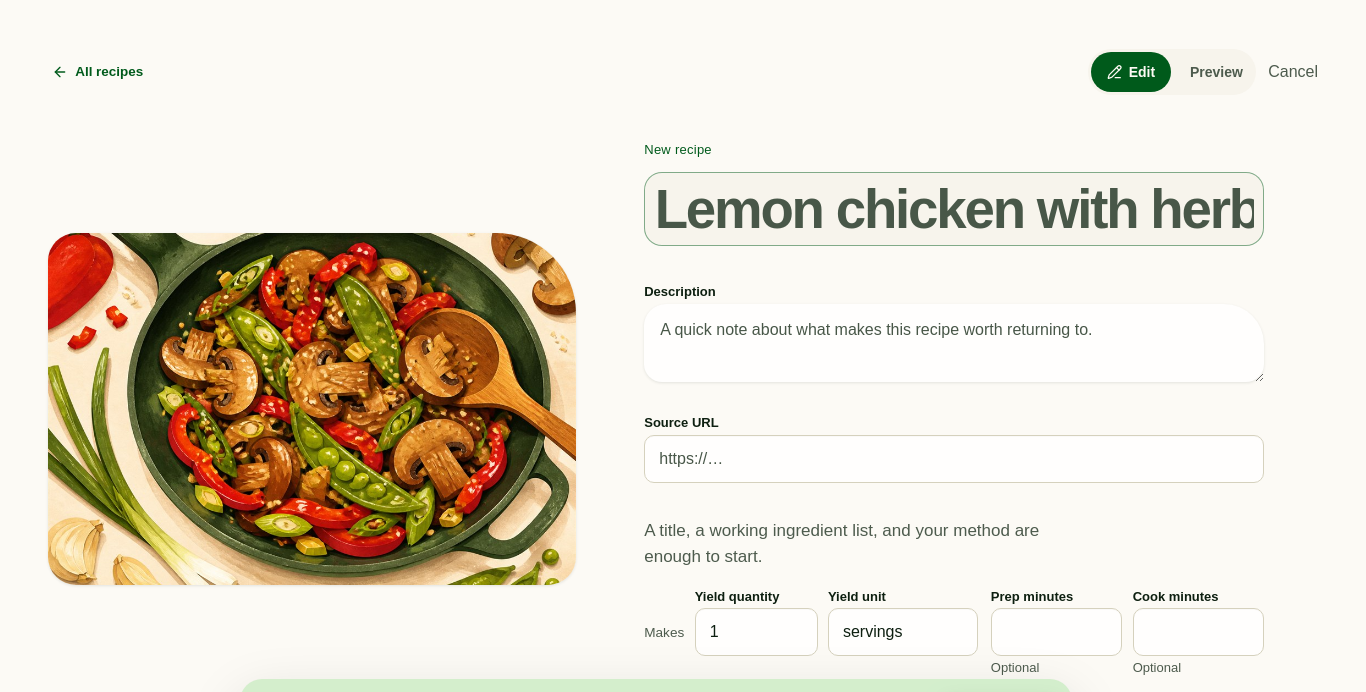
recipe photo UI › previews the draft with its image fallback and structured content
The width and height of the screenshot is (1366, 692).
Type "Sheet-pan lentils" into the field named "Recipe title" at (954, 209), box [644, 172, 1264, 246]
(page scrolled)
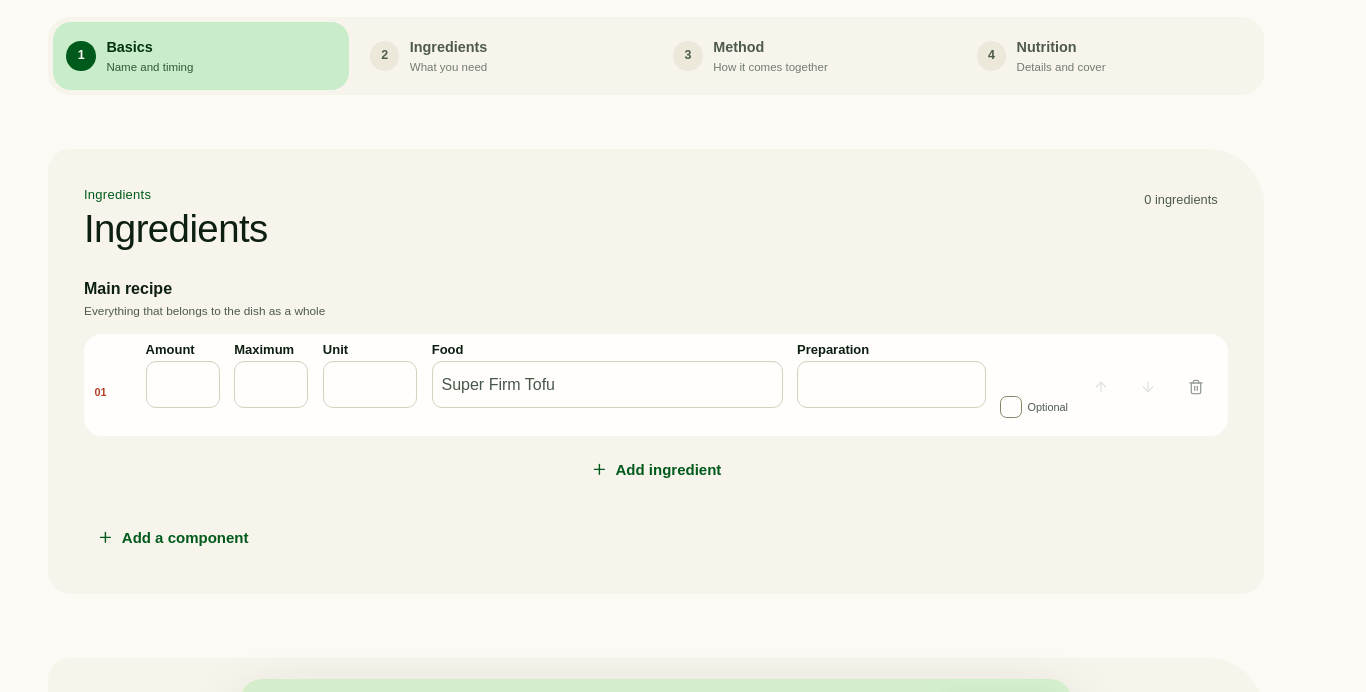
Type "1 cup lentils" into the field named "ingredient 1 for main recipe" at (607, 384), box [432, 360, 783, 408]
(page scrolled)
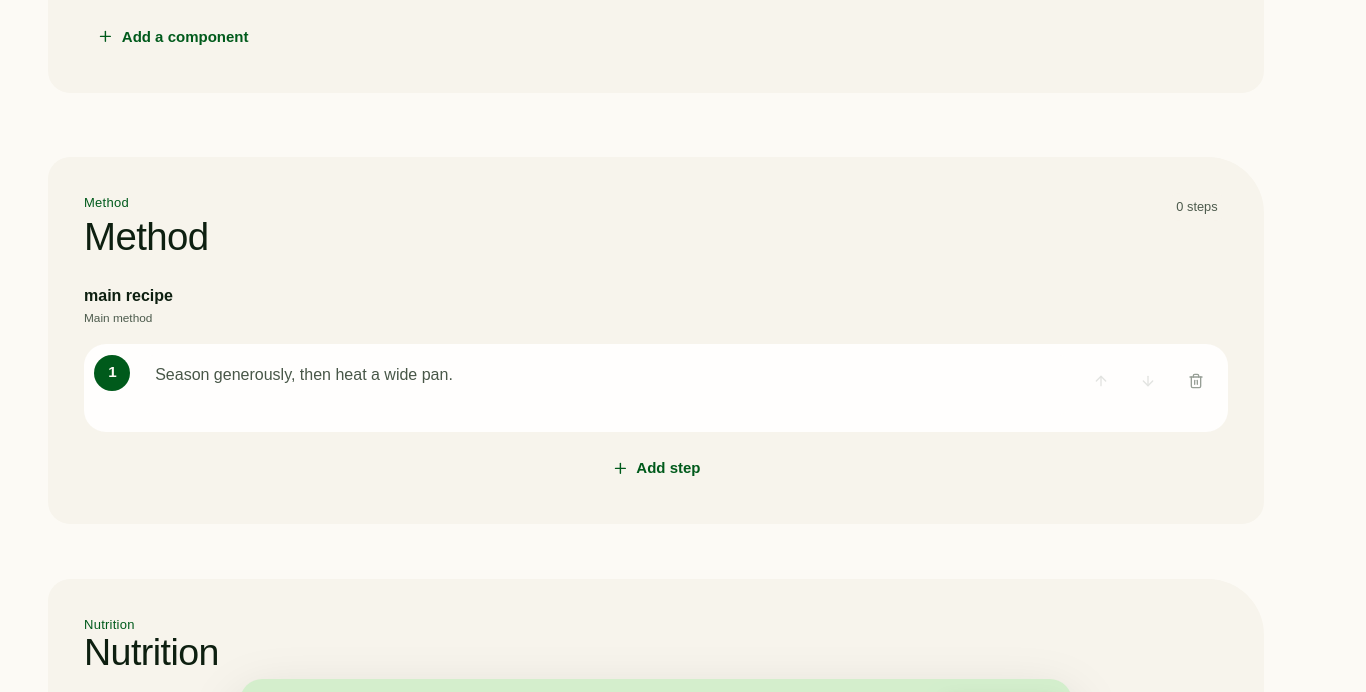
Type "Roast until tender." into the text box named "step 1 for main recipe" at (606, 384), box [144, 354, 1069, 414]
(page scrolled)
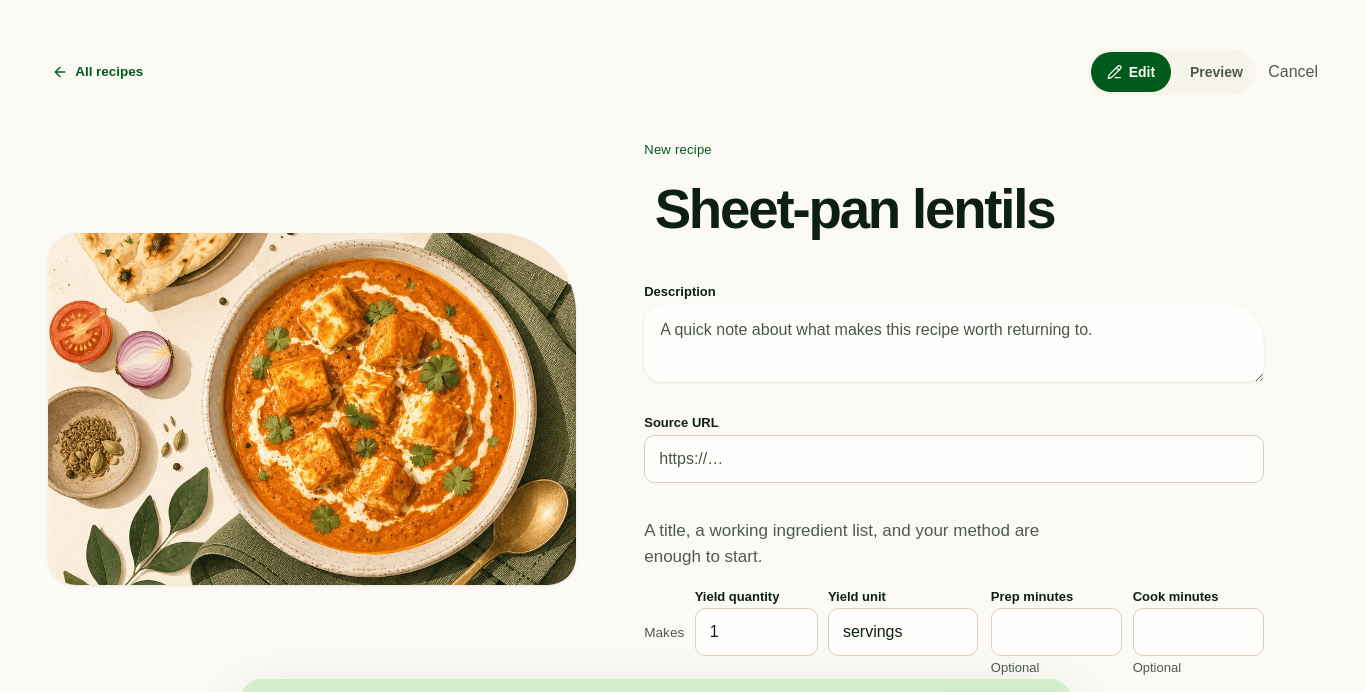
Click the button "Preview" at (1213, 72), box [1173, 52, 1253, 92]
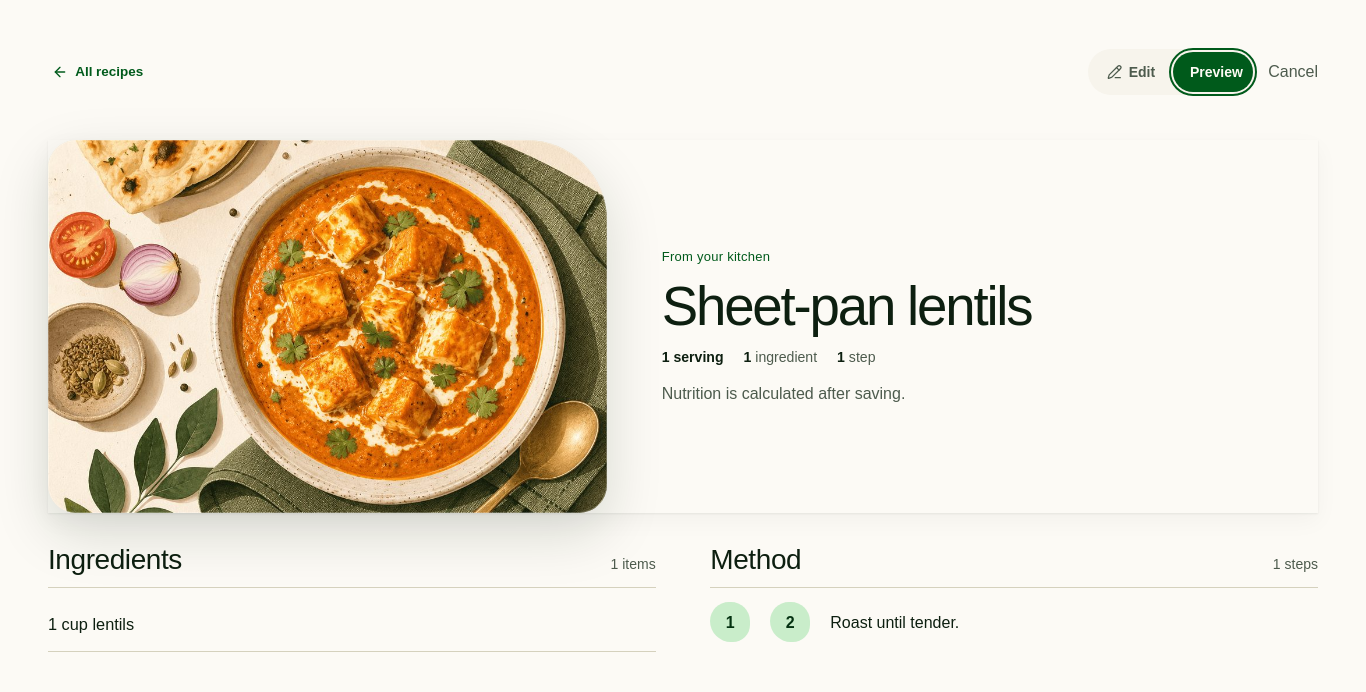
Check: the heading "Sheet-pan lentils" is shown, box [662, 280, 1087, 334]
Check: the text "1 cup lentils" is shown, box [48, 615, 134, 633]
Check: the list item "Roast until tender." is shown, box [830, 614, 959, 630]
